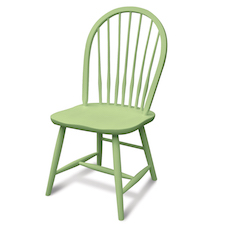chair: (40, 10, 189, 219)
